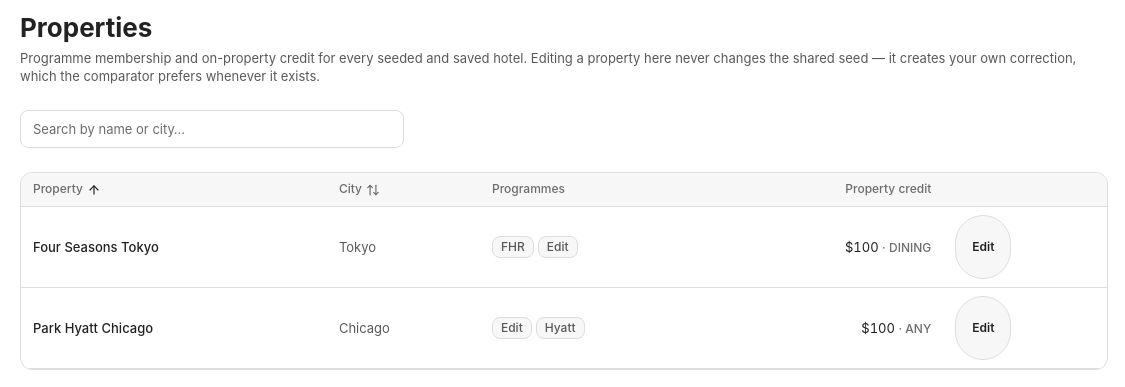
Test case: <PropertiesScreen /> › filters to matches on name or city as the user searches
Type "chicago" into the field named "Search properties" at (212, 129), box [33,111,391,147]
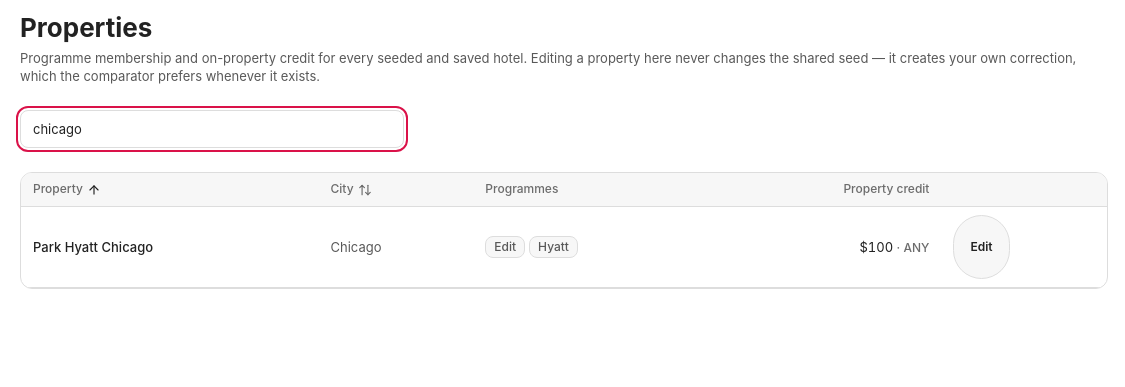
Expected: the text "Park Hyatt Chicago" is shown, [33,239,153,255]
Now the text "Four Seasons Tokyo" is gone
